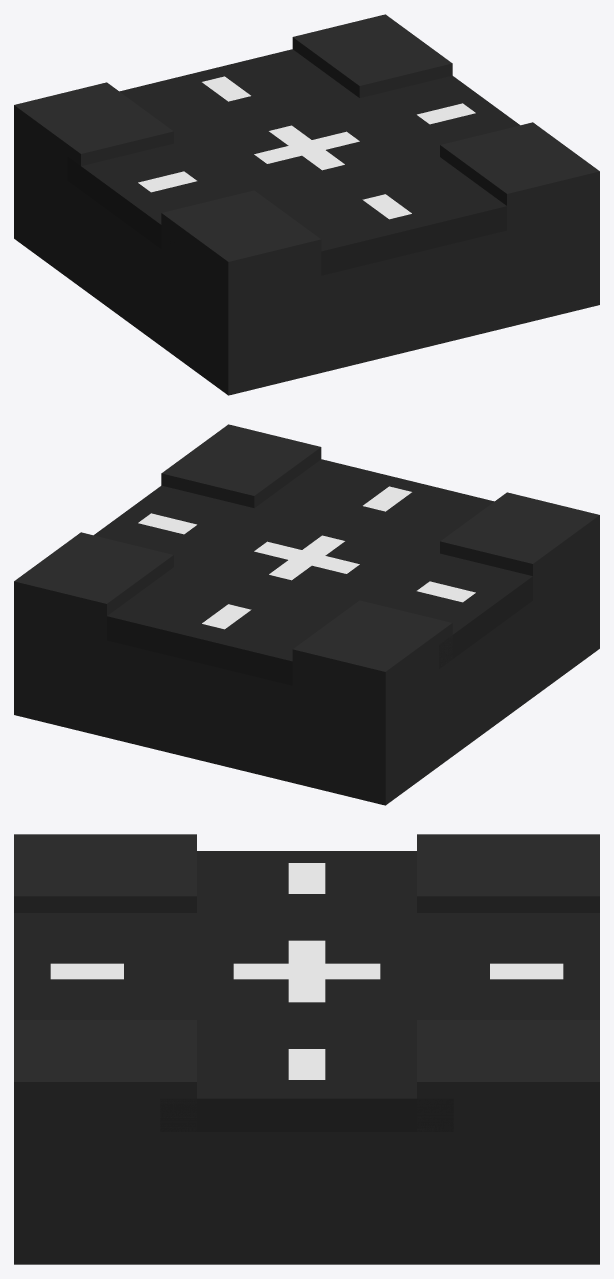
Rendered from city-crossing.obj.
3 renders of one model, top to bottom at view 1: azimuth 30°, elevation 25°; view 2: azimuth 150°, elevation 25°; view 3: azimuth 270°, elevation 25°, orthographic. The views are drawn at different scales.
Visible parts, largest first — view 1: grass, road, plane; view 2: grass, road, plane; view 3: grass, road, plane.
Boxes of the visible parts, left/top/right/bottom form: grass: left=14, top=14, right=599, bottom=395; road: left=67, top=49, right=519, bottom=275; plane: left=138, top=76, right=475, bottom=219; grass: left=14, top=424, right=599, bottom=805; road: left=94, top=459, right=532, bottom=685; plane: left=138, top=486, right=475, bottom=629; grass: left=14, top=834, right=599, bottom=1264; road: left=14, top=851, right=599, bottom=1131; plane: left=50, top=863, right=563, bottom=1079.
Bounding box in the file's own units: 0.25 × 0.0859 × 0.25.
1 material, 1 textured.
